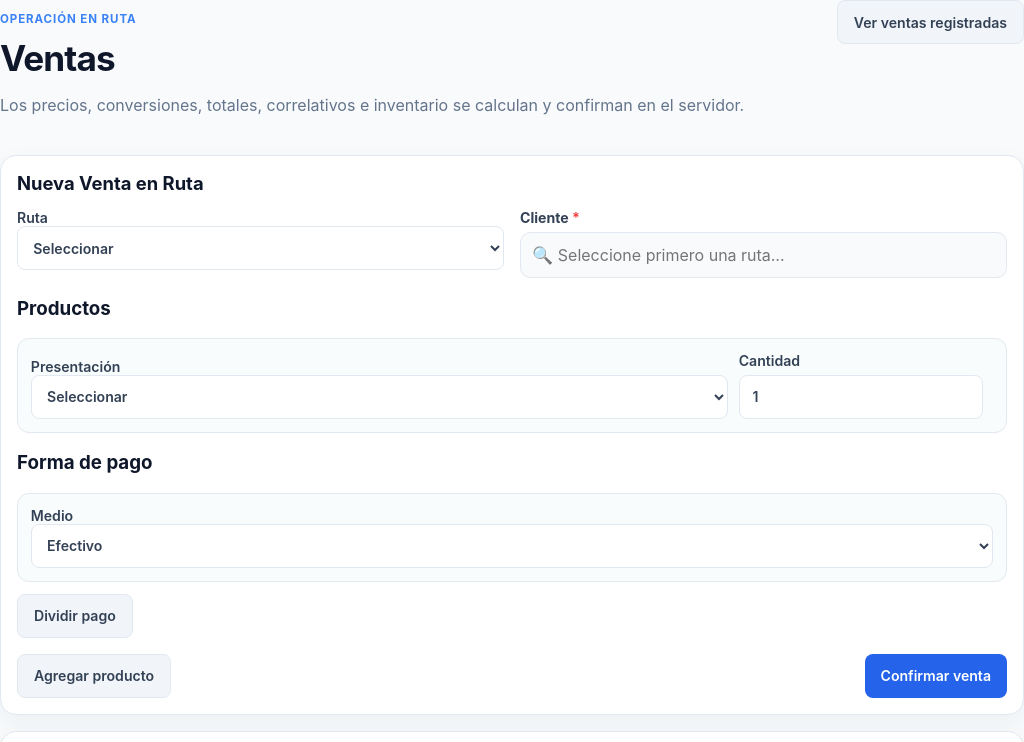
Test: SalesPage › permite registrar un cliente provisional en ruta directamente desde la pantalla de venta
Select "R-01 · Ruta norte" in the dropdown labelled "Ruta" at {"x": 260, "y": 248}, box [17,226,504,270]
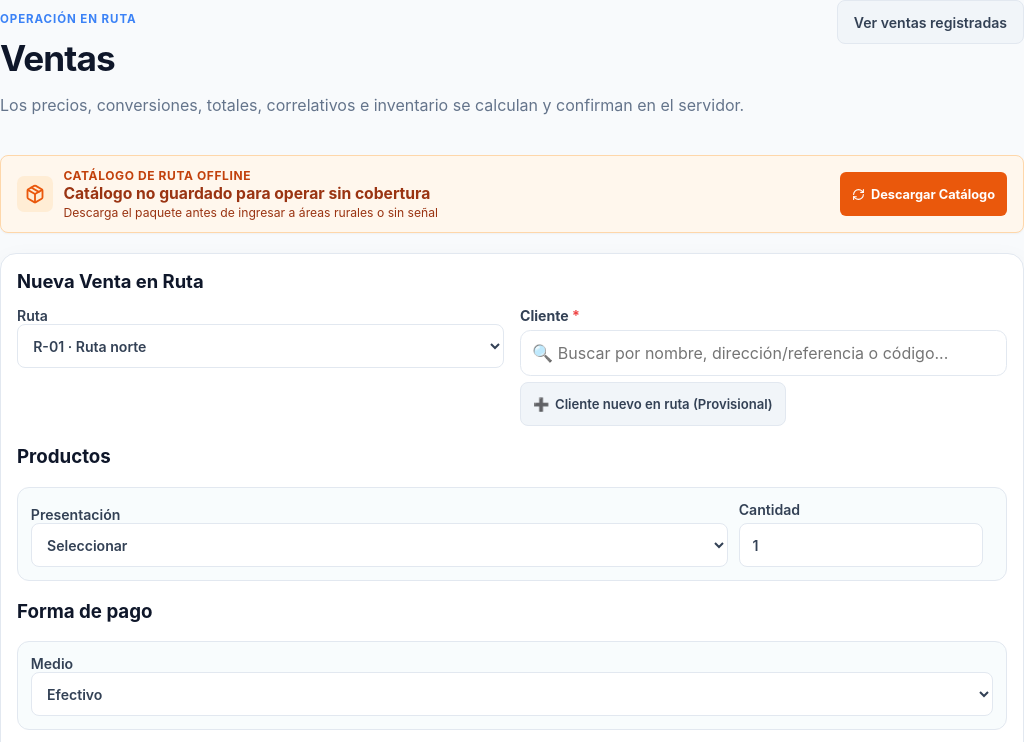
// Abrir modal de cliente provisional
Click the button "➕ Cliente nuevo en ruta (Provisional)" at {"x": 653, "y": 404}, box [520,382,786,426]
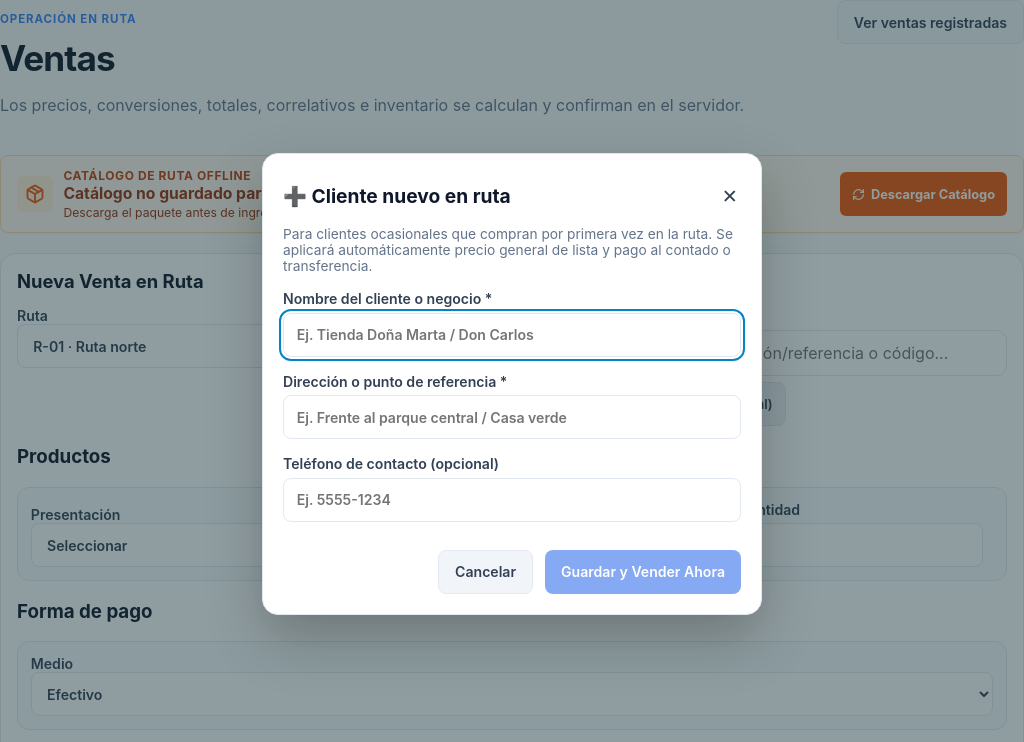
Expected: the heading "➕ Cliente nuevo en ruta" is shown, [283,184,511,208]
// Llenar formulario
Type "Comedor Doña Marta" into the field with placeholder "Ej. Tienda Doña Marta / Don Carlos" at {"x": 512, "y": 335}, box [283,313,741,357]
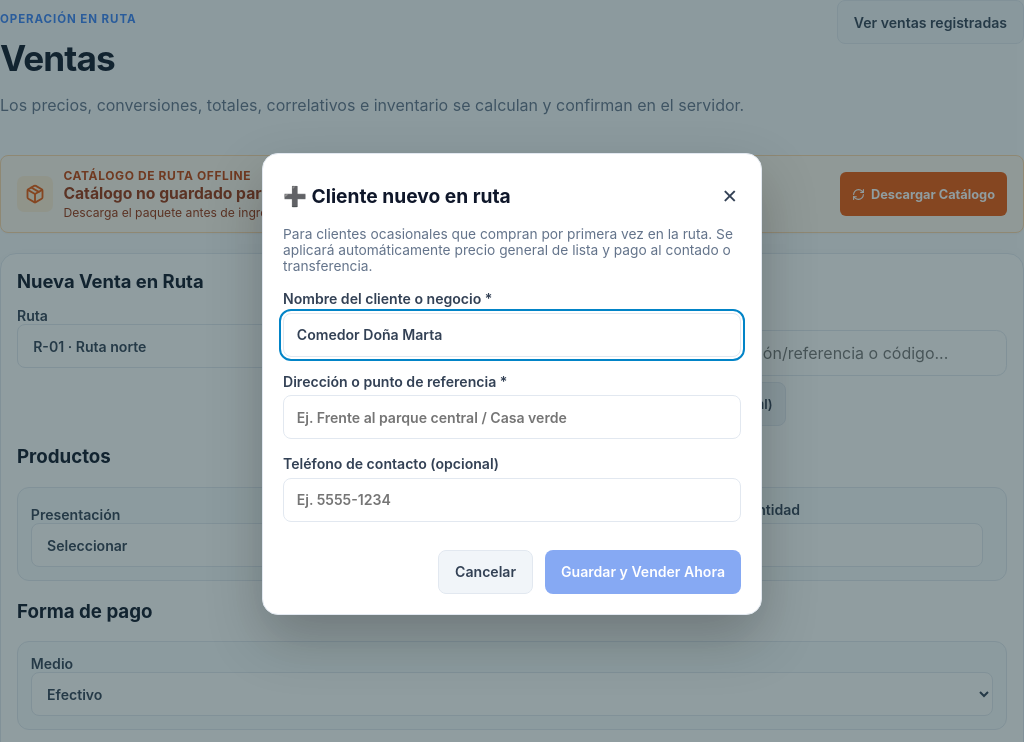
Type "Frente al parque central" into the field with placeholder "Ej. Frente al parque central / Casa verde" at {"x": 512, "y": 417}, box [283,395,741,439]
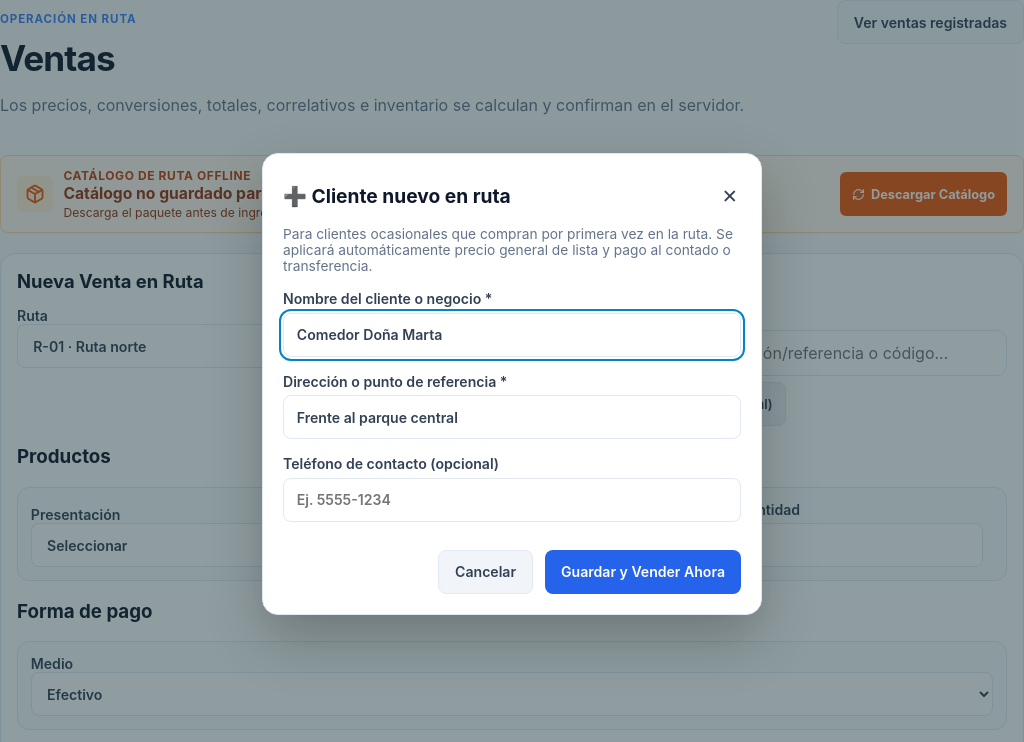
Click the button "Guardar y Vender Ahora" at {"x": 643, "y": 572}, box [545,550,741,594]
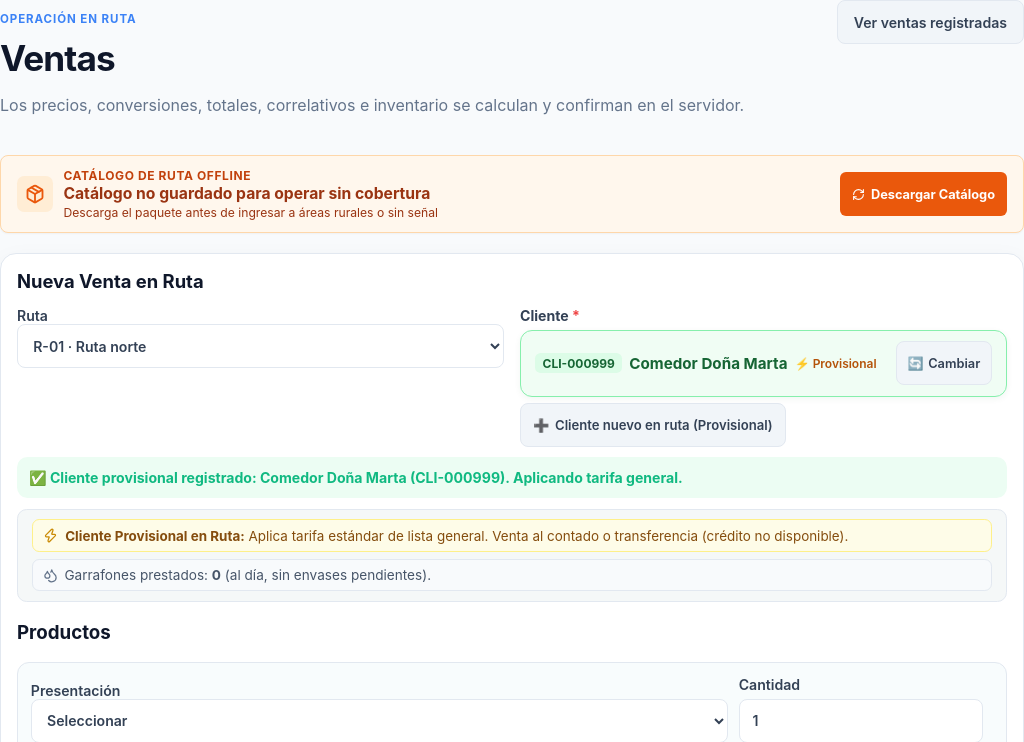
Expected: the text "Cliente provisional registrado" is shown, [29,470,683,486]
